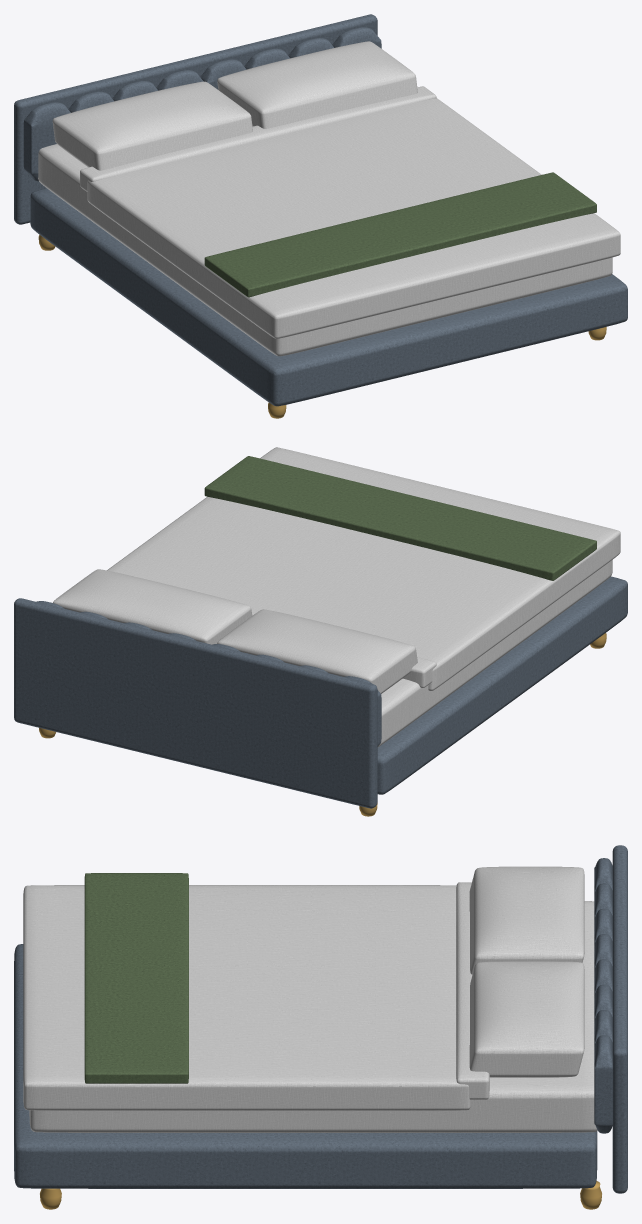
The picture shows the model from 3 angles, top to bottom: view 1: azimuth 30°, elevation 25°; view 2: azimuth 150°, elevation 25°; view 3: azimuth 270°, elevation 25°; orthographic projection. The views are drawn at different scales.
Visible parts, largest first — view 1: Duvet, Upholstered base, Folded throw, Mattress, Pillow 1, Pillow 2, Headboard back, Turned-down sheet, Channel 1, Channel 5, Channel 8, Channel 4; view 2: Headboard back, Duvet, Folded throw, Upholstered base, Pillow 1, Pillow 2, Mattress, Turned-down sheet; view 3: Duvet, Upholstered base, Folded throw, Mattress, Pillow 2, Pillow 1, Headboard back, Turned-down sheet, Channel 8.
Part boxes in pixels (left/top/right/bottom): Duvet: left=87, top=98, right=620, bottom=338; Upholstered base: left=30, top=188, right=627, bottom=406; Folded throw: left=204, top=172, right=596, bottom=297; Mattress: left=38, top=144, right=612, bottom=356; Pillow 1: left=52, top=81, right=252, bottom=170; Pillow 2: left=217, top=41, right=417, bottom=128; Headboard back: left=14, top=14, right=377, bottom=224; Turned-down sheet: left=80, top=86, right=436, bottom=191; Channel 1: left=23, top=102, right=70, bottom=181; Channel 5: left=200, top=59, right=246, bottom=89; Channel 8: left=332, top=27, right=381, bottom=48; Channel 4: left=156, top=70, right=203, bottom=90; Headboard back: left=14, top=598, right=377, bottom=808; Duvet: left=107, top=447, right=620, bottom=690; Folded throw: left=204, top=456, right=596, bottom=580; Upholstered base: left=377, top=576, right=627, bottom=794; Pillow 1: left=217, top=609, right=417, bottom=693; Pillow 2: left=53, top=569, right=252, bottom=644; Mattress: left=377, top=560, right=612, bottom=747; Turned-down sheet: left=403, top=657, right=436, bottom=687; Duvet: left=23, top=885, right=470, bottom=1110; Upholstered base: left=14, top=944, right=597, bottom=1188; Folded throw: left=84, top=873, right=188, bottom=1083; Mattress: left=29, top=901, right=597, bottom=1132; Pillow 2: left=469, top=961, right=584, bottom=1077; Pillow 1: left=469, top=866, right=584, bottom=974; Headboard back: left=612, top=845, right=627, bottom=1193; Turned-down sheet: left=456, top=882, right=489, bottom=1099; Channel 8: left=594, top=1035, right=612, bottom=1133.
Bounding box in the file's own units: 1.6 × 0.6 × 2.
Materials: 4 (3 with a texture image).
